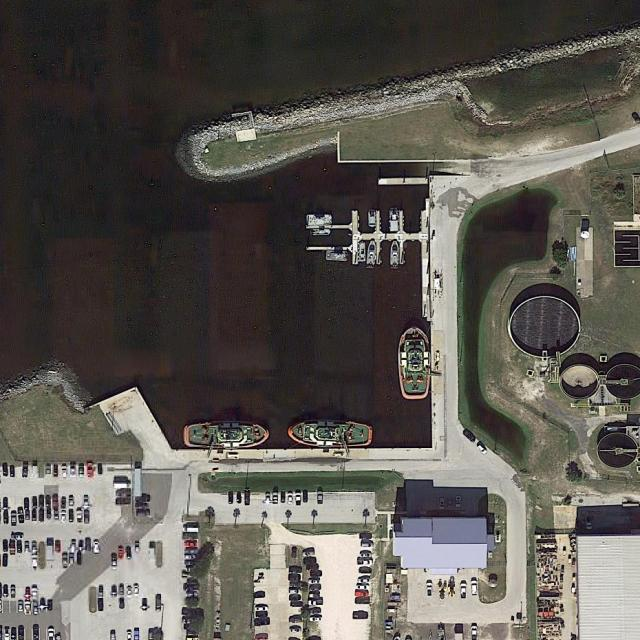Hovercraft: (397, 325, 431, 400), (286, 420, 373, 449), (183, 420, 269, 449)
Other Warship: (306, 214, 332, 226), (326, 251, 349, 262), (390, 206, 398, 233), (390, 242, 398, 269), (367, 242, 375, 268), (310, 228, 332, 236), (367, 209, 376, 228), (358, 242, 366, 262)
